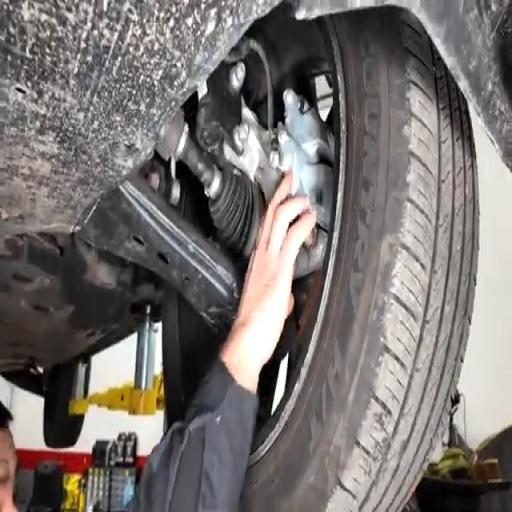tire: (240, 9, 478, 511), (44, 362, 84, 447)
wheel: (241, 9, 478, 510), (44, 362, 90, 447)
